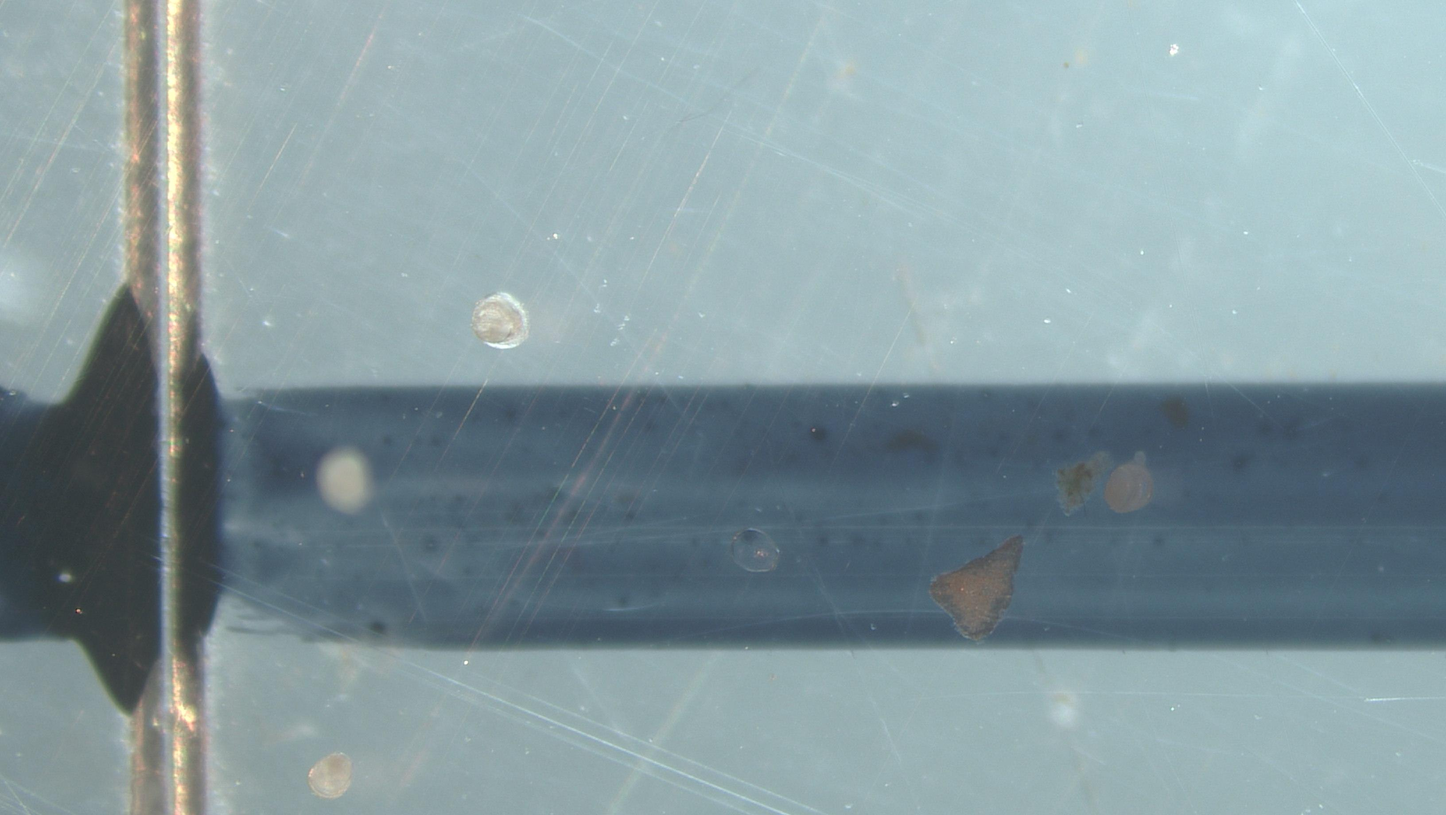dead: (472, 293, 529, 350), (731, 529, 780, 573), (308, 753, 352, 799)
